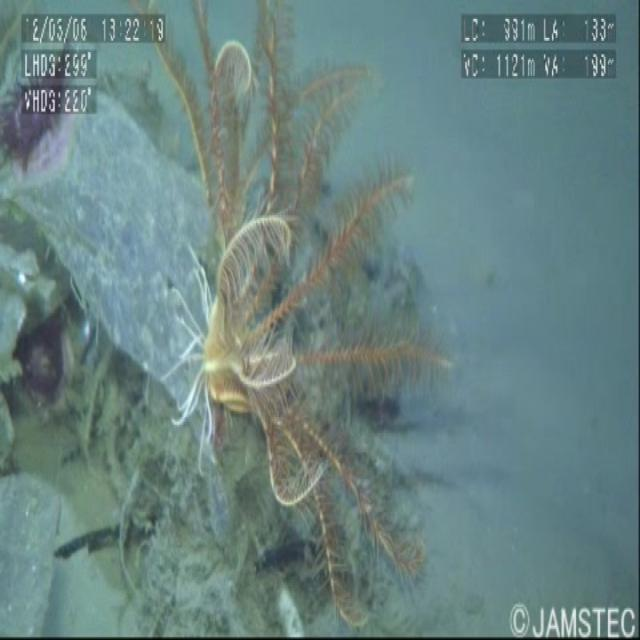Plastic: (28, 46, 243, 462)
